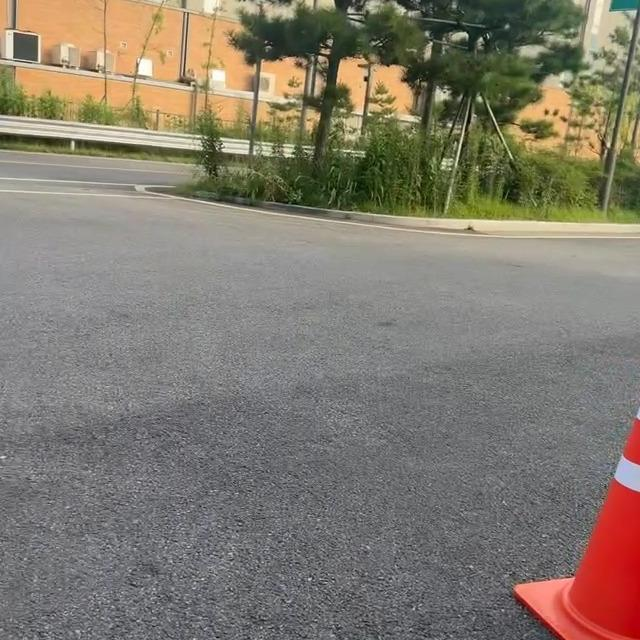fallen_object: (479, 277, 640, 640)
